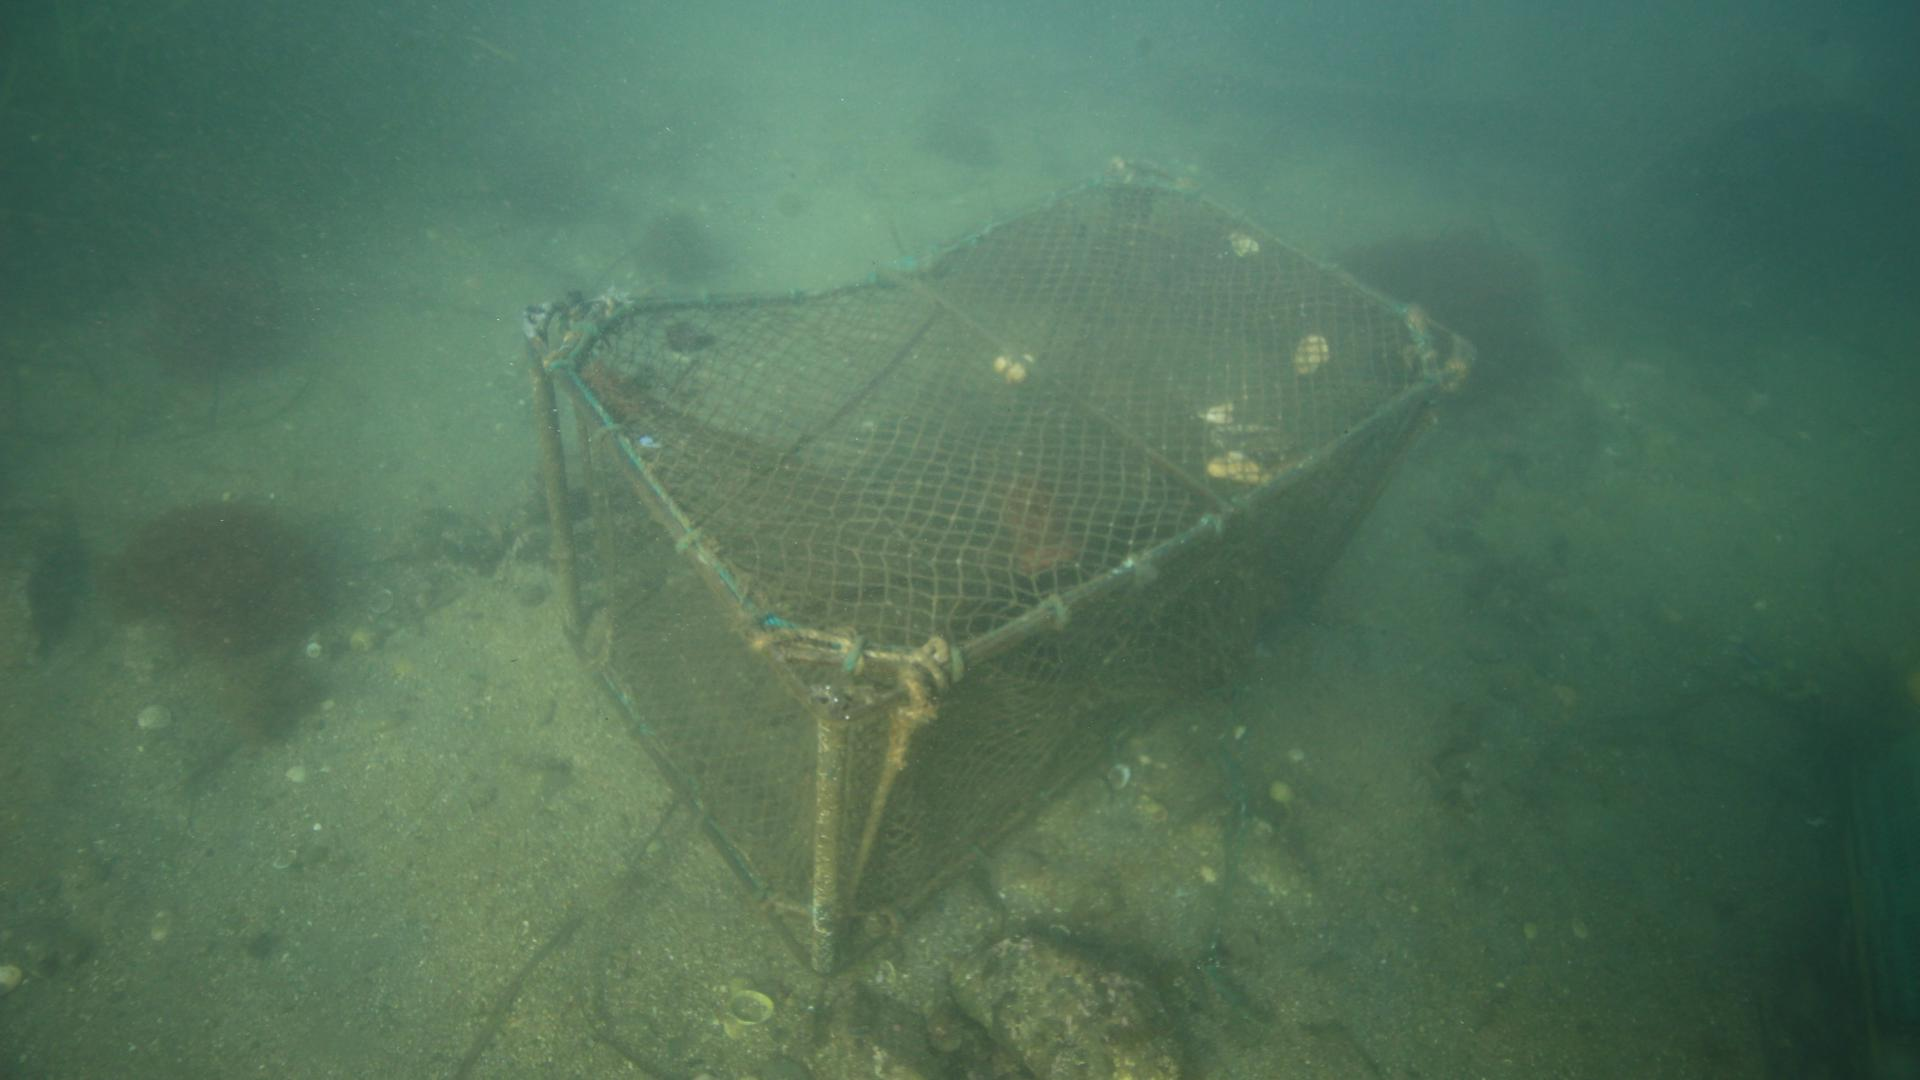rectangular fish trap: (516, 158, 1480, 978)
